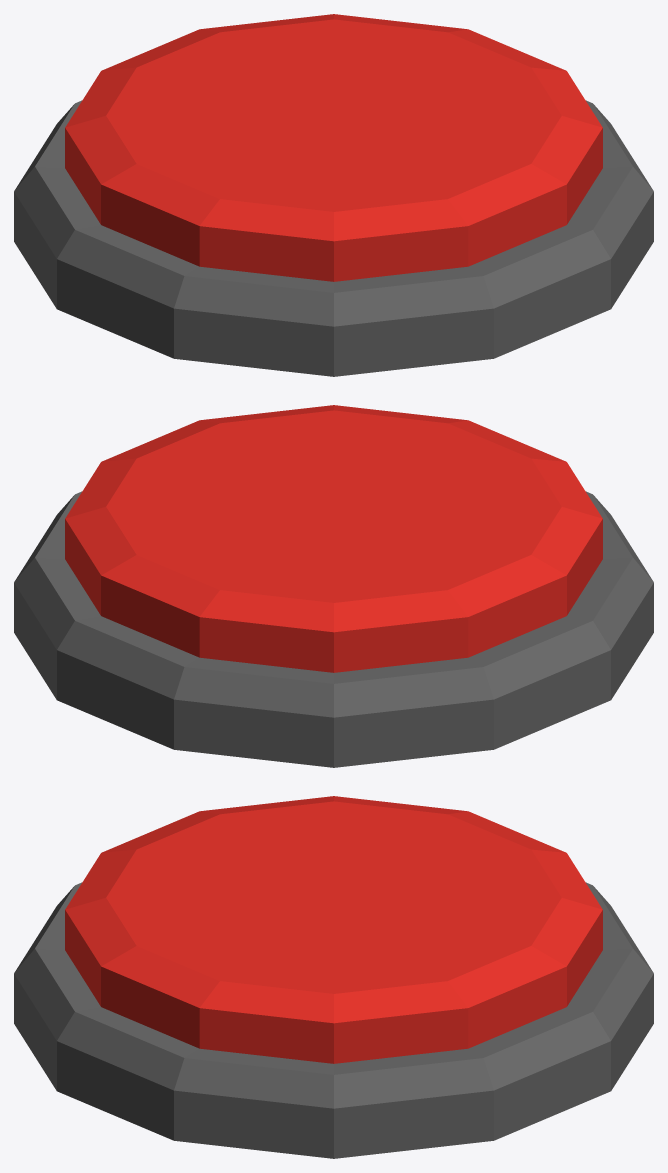
The model's file is button.fbx.
3 renders of one model, top to bottom at view 1: azimuth 30°, elevation 25°; view 2: azimuth 150°, elevation 25°; view 3: azimuth 270°, elevation 25°, orthographic.
Visible parts, largest first — view 1: Button, Outside; view 2: Button, Outside; view 3: Button, Outside.
Part boxes in pixels (x1,y1,x2,y2): Button: (65,14,602,281); Outside: (14,100,653,376); Button: (65,405,602,672); Outside: (14,491,653,767); Button: (65,796,602,1063); Outside: (14,882,653,1158).
Bounding box in the file's own units: 220 × 47.8 × 220.
